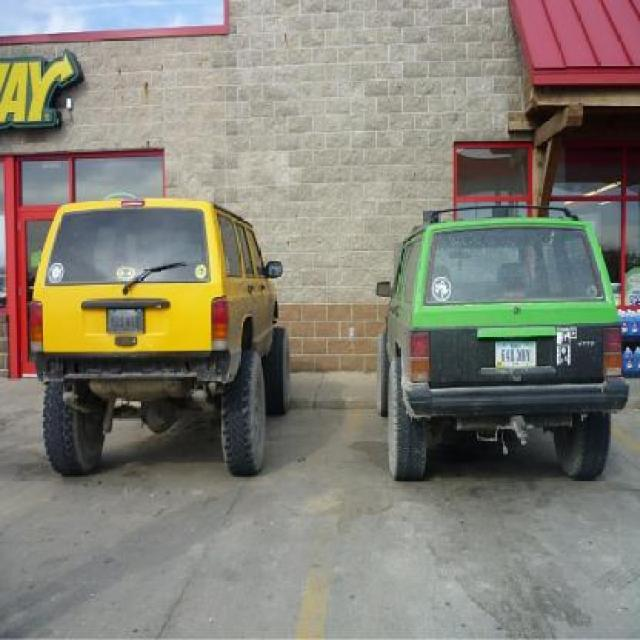Jeep: (369, 192, 628, 488), (34, 193, 292, 479)
